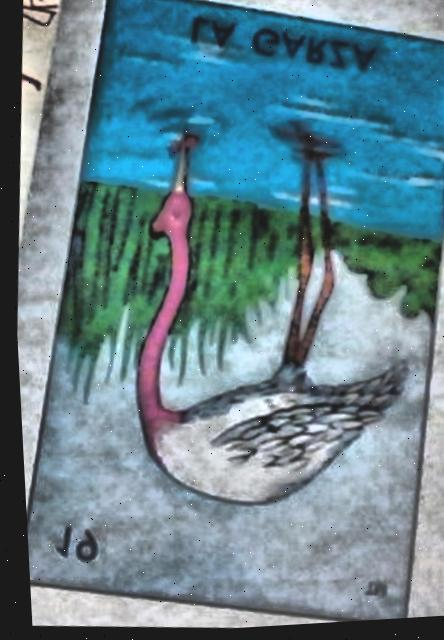El Garza: (21, 0, 444, 624)
